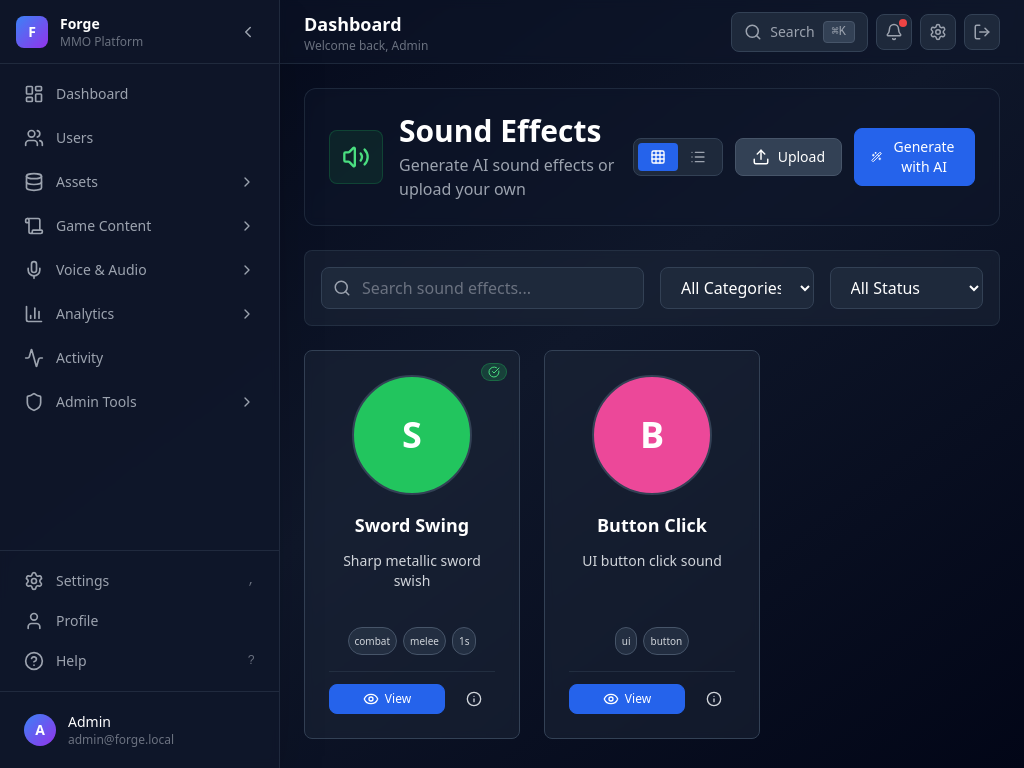
Scenario: SoundEffectsPage - Integration Tests › File Upload › opens upload modal when "Upload" is clicked
This screenshot has width=1024, height=768.
Expected: the heading "Sword Swing" is shown, [355,513,469,537]
Step 1. Click the button "Upload" → click(788, 157), box [735,138,842,176]
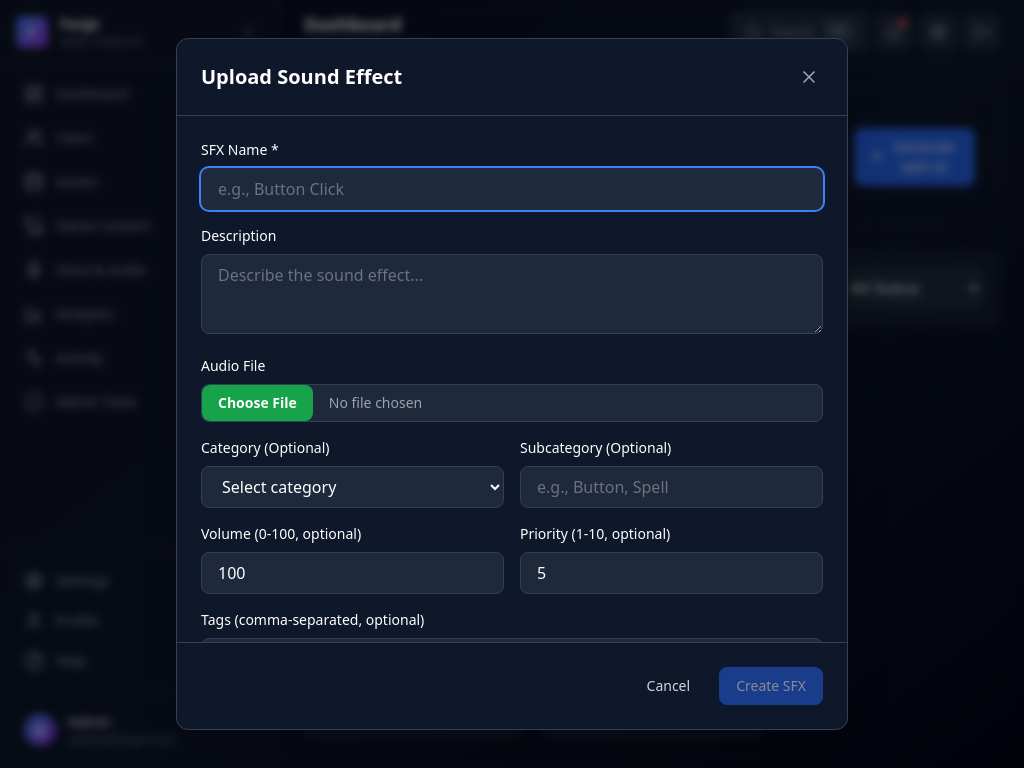
Expected: the heading "Upload Sound Effect" is shown, [201,63,402,91]
